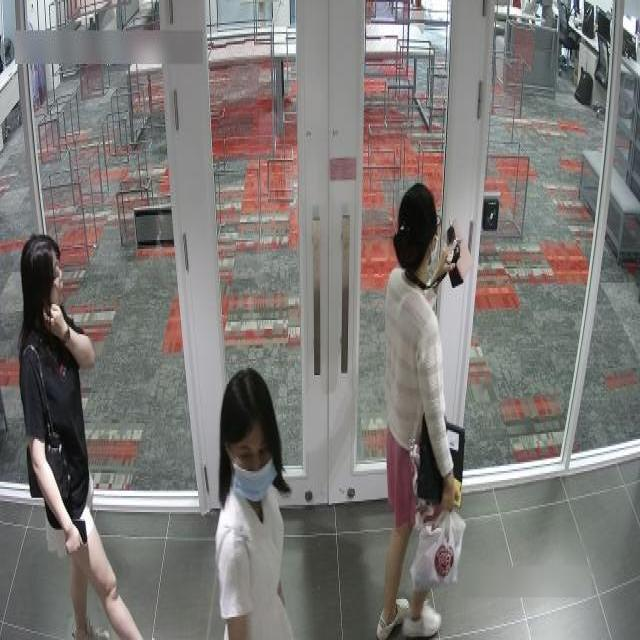bare_hand: (435, 453, 468, 521), (60, 492, 87, 567), (45, 292, 75, 357), (429, 233, 459, 295)
